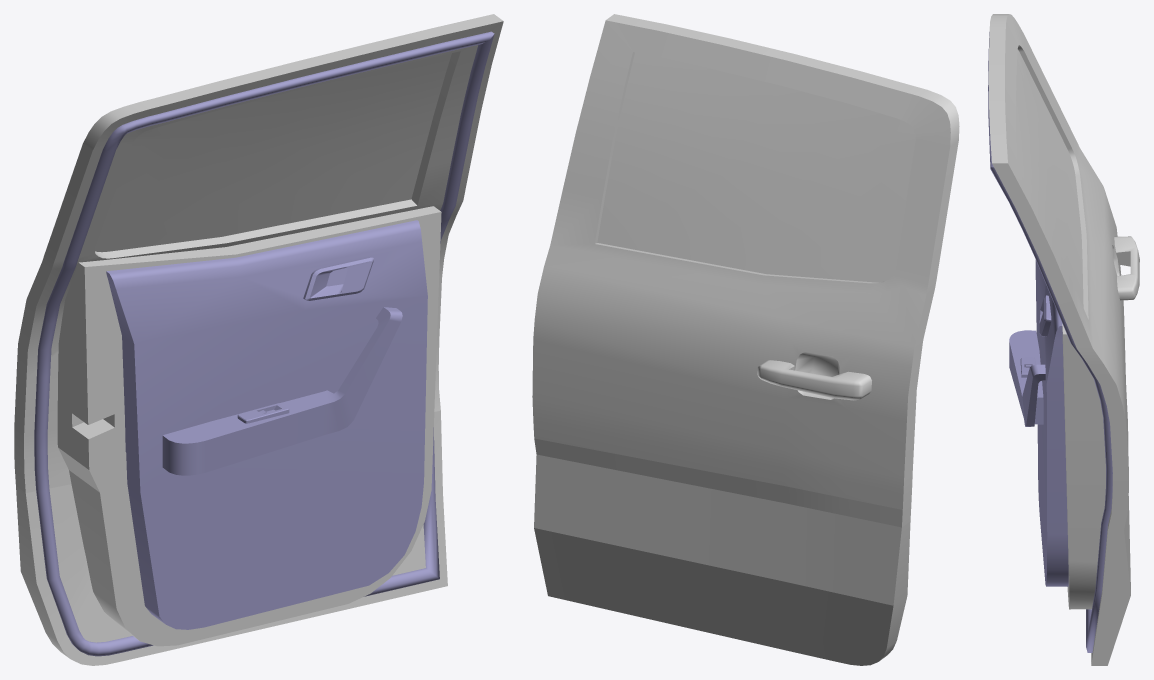
File: back_door.fbx
3 views of the same model, side by side, from view 1: azimuth 30°, elevation 25°; view 2: azimuth 150°, elevation 25°; view 3: azimuth 270°, elevation 25° (orthographic). The views are drawn at different scales.
Parts seen in each view (by area): view 1: PTN_4X4_GB_14_001.009; view 2: PTN_4X4_GB_14_001.009; view 3: PTN_4X4_GB_14_001.009.
Boxes of the visible parts, box(x1,y1,x2,y2) form: PTN_4X4_GB_14_001.009: box(14, 14, 503, 665); PTN_4X4_GB_14_001.009: box(532, 14, 959, 665); PTN_4X4_GB_14_001.009: box(988, 14, 1139, 665).
Size of the model in its own units: 89.3 by 124 by 33.96.
